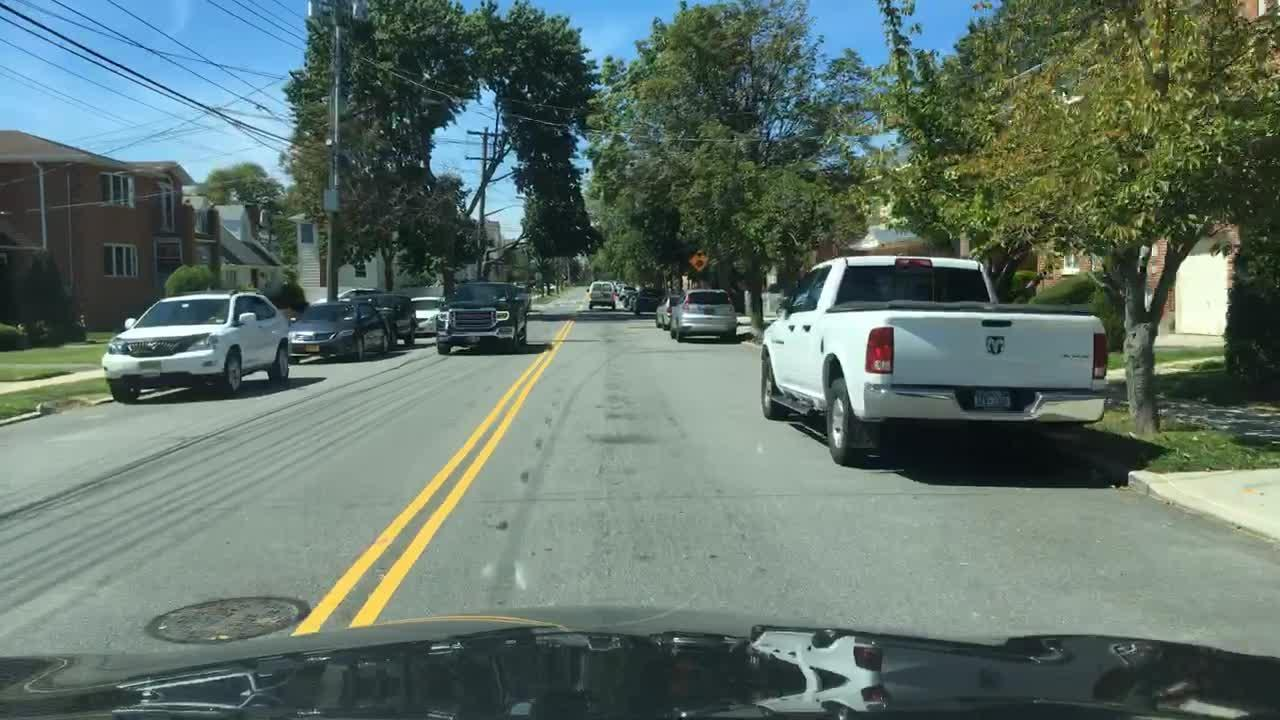ram: (986, 331, 1008, 357)
